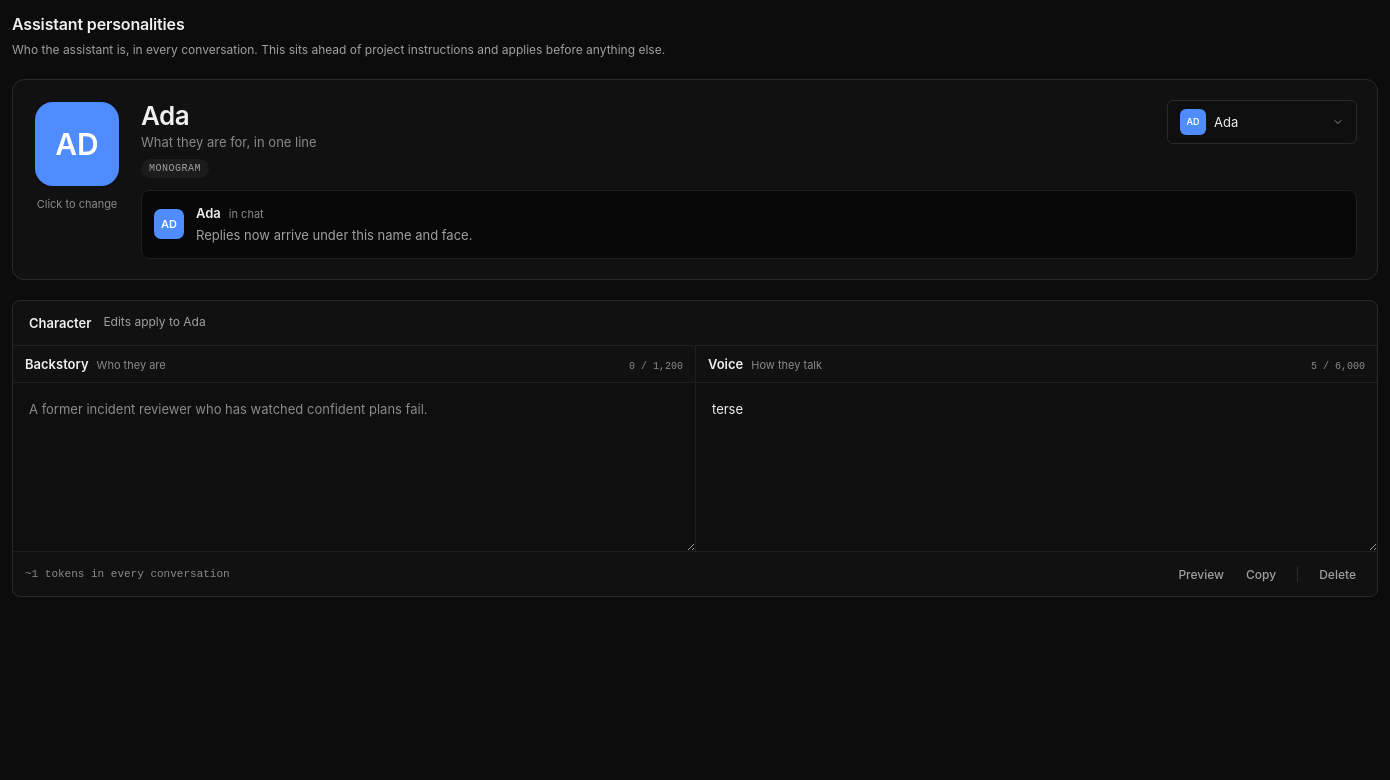
making one of your own › reverts an edit to an existing personality on Discard
Replace the text in the field named "Personality name" with "Adaline": (648, 116) [141,100,1155,132]
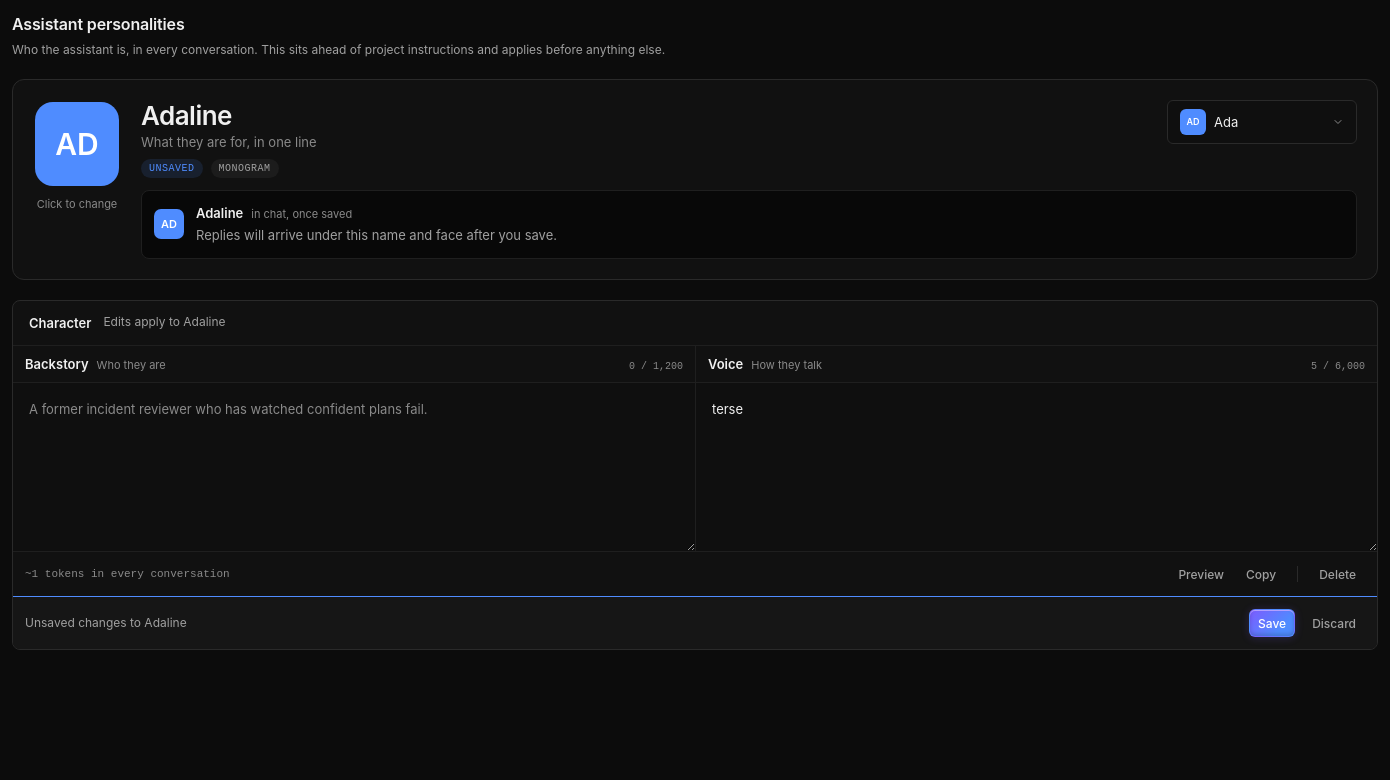
Click the button "Discard": (1334, 623) [1303,609,1365,637]
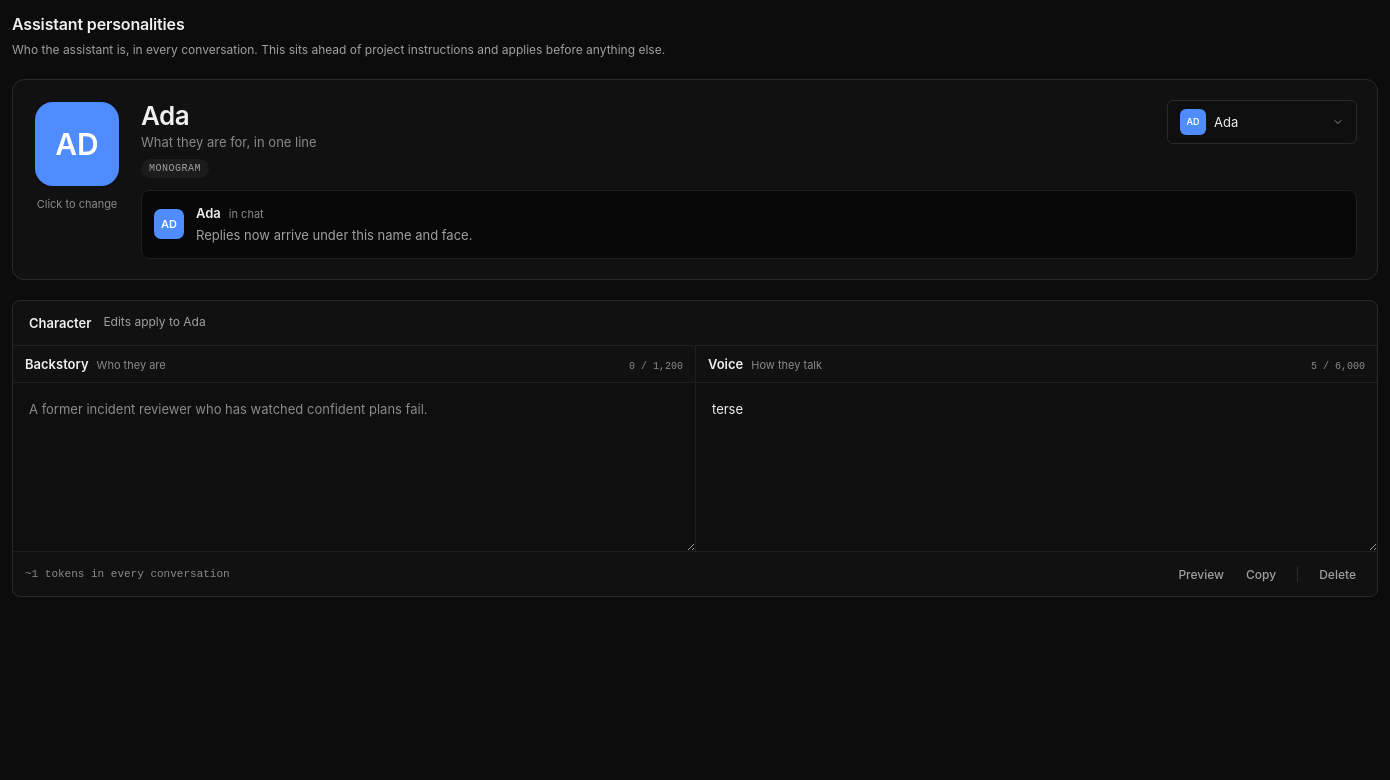
Now the field named "Personality name" holds "Ada", box [141,100,1155,132]
